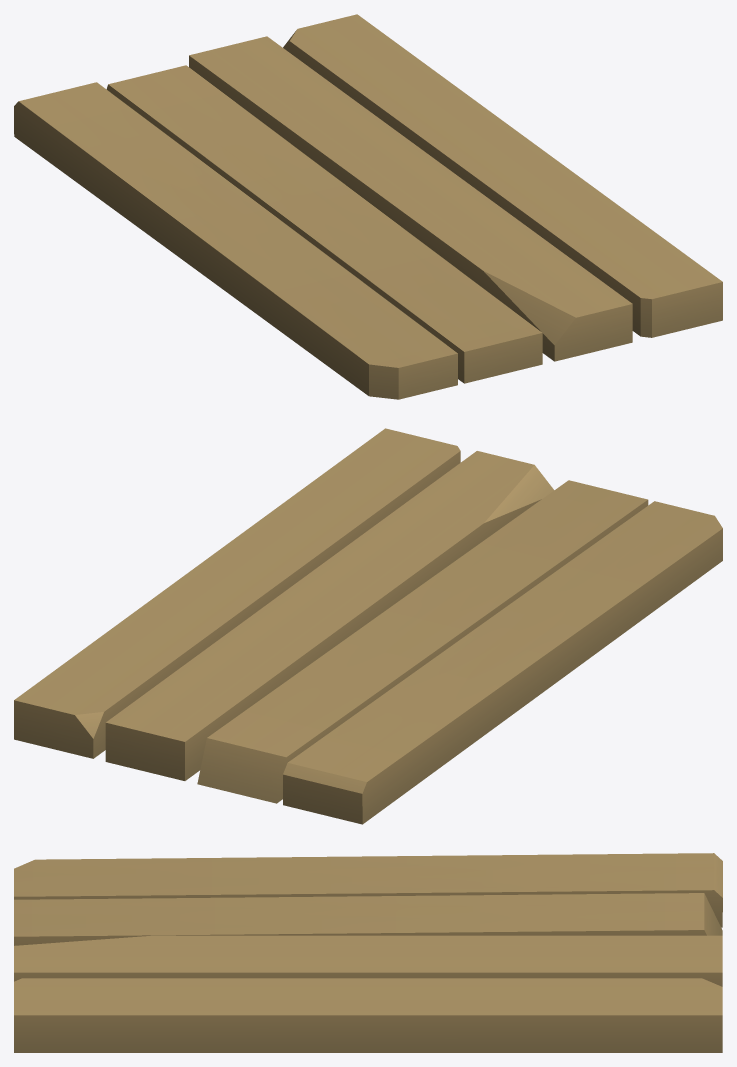
The model's file is Wood003.fbx.
3 views of the same model, one above another, from view 1: azimuth 30°, elevation 25°; view 2: azimuth 150°, elevation 25°; view 3: azimuth 270°, elevation 25° (orthographic). The views are drawn at different scales.
Visible parts, largest first — view 1: Cube.003; view 2: Cube.003; view 3: Cube.003.
Part boxes in pixels (left/top/right/bottom): Cube.003: left=14, top=14, right=722, bottom=399; Cube.003: left=14, top=428, right=722, bottom=824; Cube.003: left=14, top=853, right=722, bottom=1052.
Bounding box in the file's own units: 178 × 19.21 × 329.
